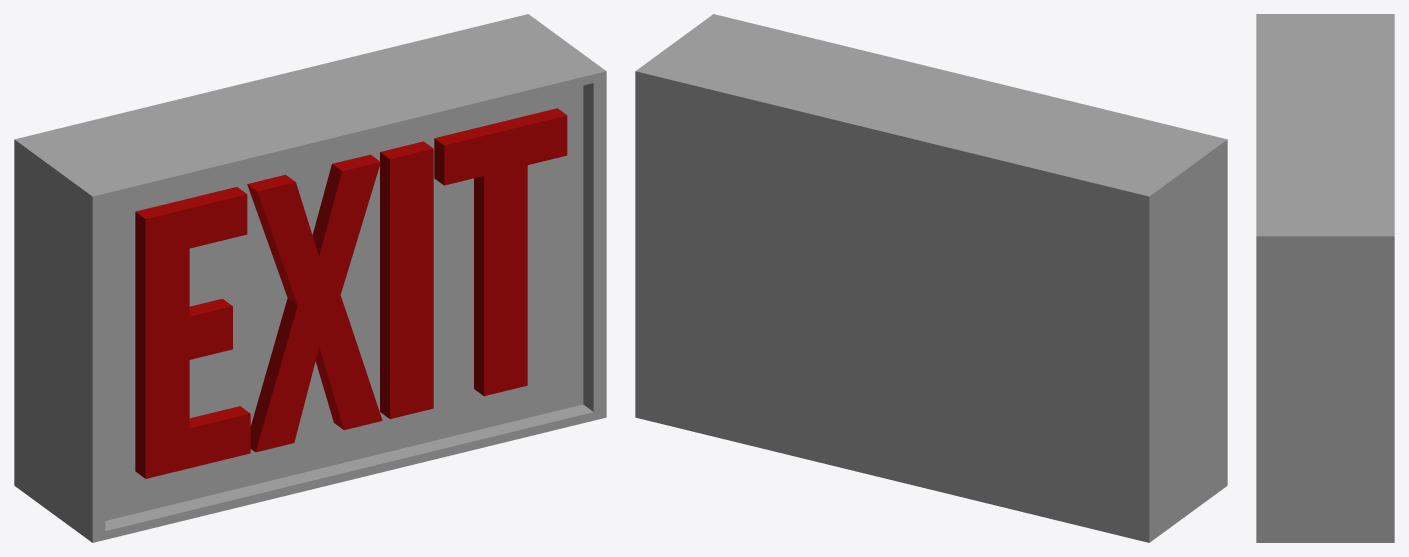
Rendered from ExitSign.fbx.
3 views of the same model, side by side, from view 1: azimuth 30°, elevation 25°; view 2: azimuth 150°, elevation 25°; view 3: azimuth 270°, elevation 25° (orthographic). The views are drawn at different scales.
Visible parts, largest first — view 1: ExitSign; view 2: ExitSign; view 3: ExitSign.
Boxes of the visible parts, x1,y1,x2,y2 form: ExitSign: [14, 14, 606, 542]; ExitSign: [635, 14, 1227, 542]; ExitSign: [1256, 14, 1394, 542].
Bounding box in the file's own units: 0.7654 × 0.4929 × 0.2017.
